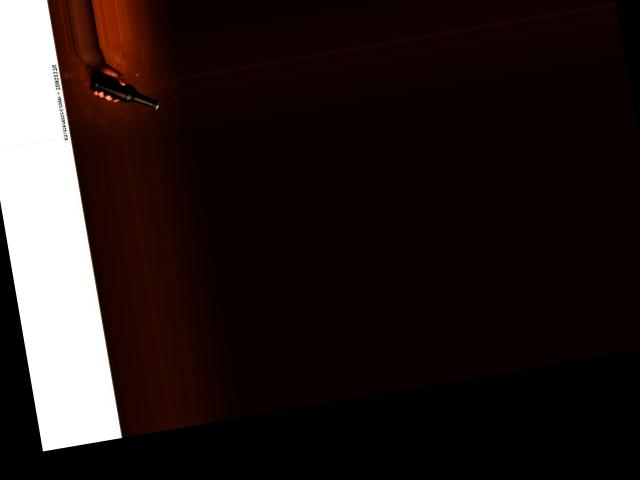beer: (87, 60, 160, 120)
